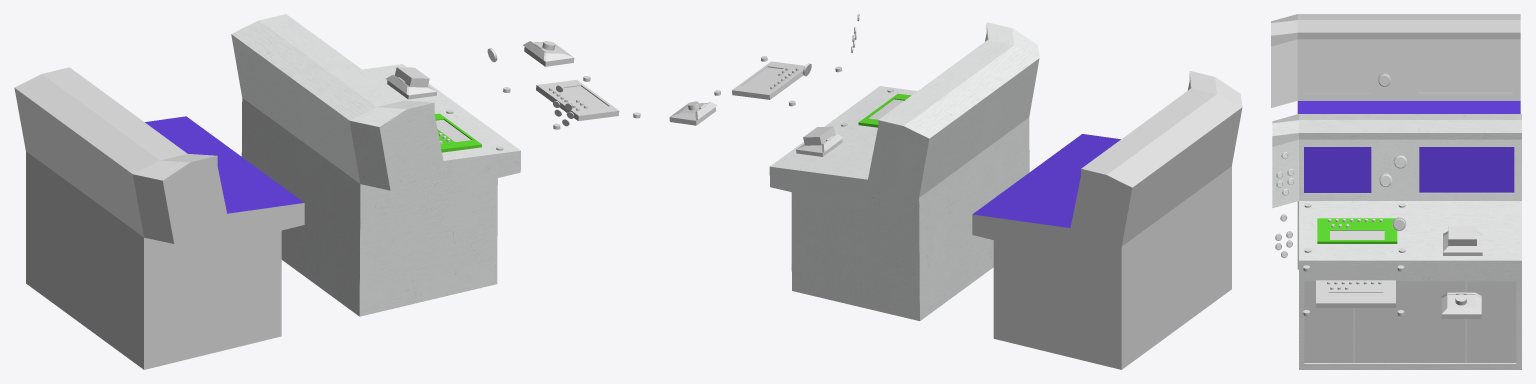
The model's file is Control Panel_Left.fbx.
3 renders of one model, left to right at view 1: azimuth 30°, elevation 25°; view 2: azimuth 150°, elevation 25°; view 3: azimuth 270°, elevation 25°, orthographic. The views are drawn at different scales.
Parts seen in each view (by area): view 1: Cube, Control Panel, Cube.005, Cube.001; view 2: Cube, Control Panel, Cube.005, Cube.001; view 3: Control Panel, Cube, Cube.005, Cube.001.
Boxes of the visible parts, x1,y1,x2,y2 form: Cube: [14, 67, 304, 369]; Control Panel: [231, 14, 520, 316]; Cube.005: [536, 80, 619, 120]; Cube.001: [523, 41, 574, 66]; Cube: [972, 71, 1242, 369]; Control Panel: [769, 22, 1039, 320]; Cube.005: [732, 61, 804, 99]; Cube.001: [669, 101, 717, 125]; Control Panel: [1272, 114, 1521, 369]; Cube: [1271, 14, 1520, 269]; Cube.005: [1316, 280, 1395, 307]; Cube.001: [1441, 292, 1481, 318].
Bounding box in the file's own units: 361 × 141 × 161.
